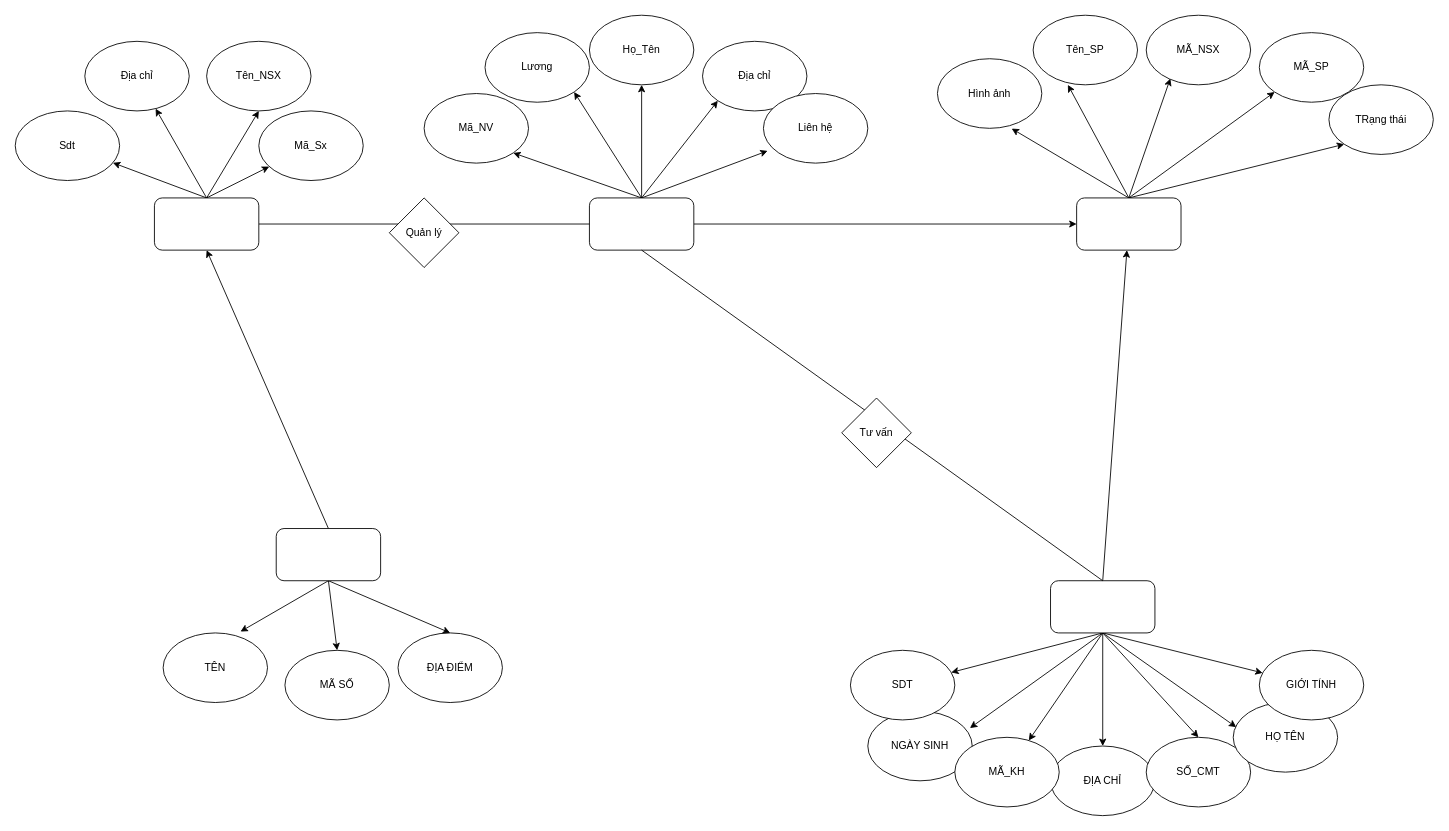
Some shapes in this 1449 by 831 pixel diagram are drawn without their labels. The shapes that lost their labels are listed below. From the top down, each one's centre as x and y in pixels, then its label:
At pixel 206 223: "Công ty".
At pixel 641 223: "Nhân viên".
At pixel 1128 223: "Sản phẩm".
At pixel 328 554: "DỰ ÁN".
At pixel 1102 606: "Khách hàng".
